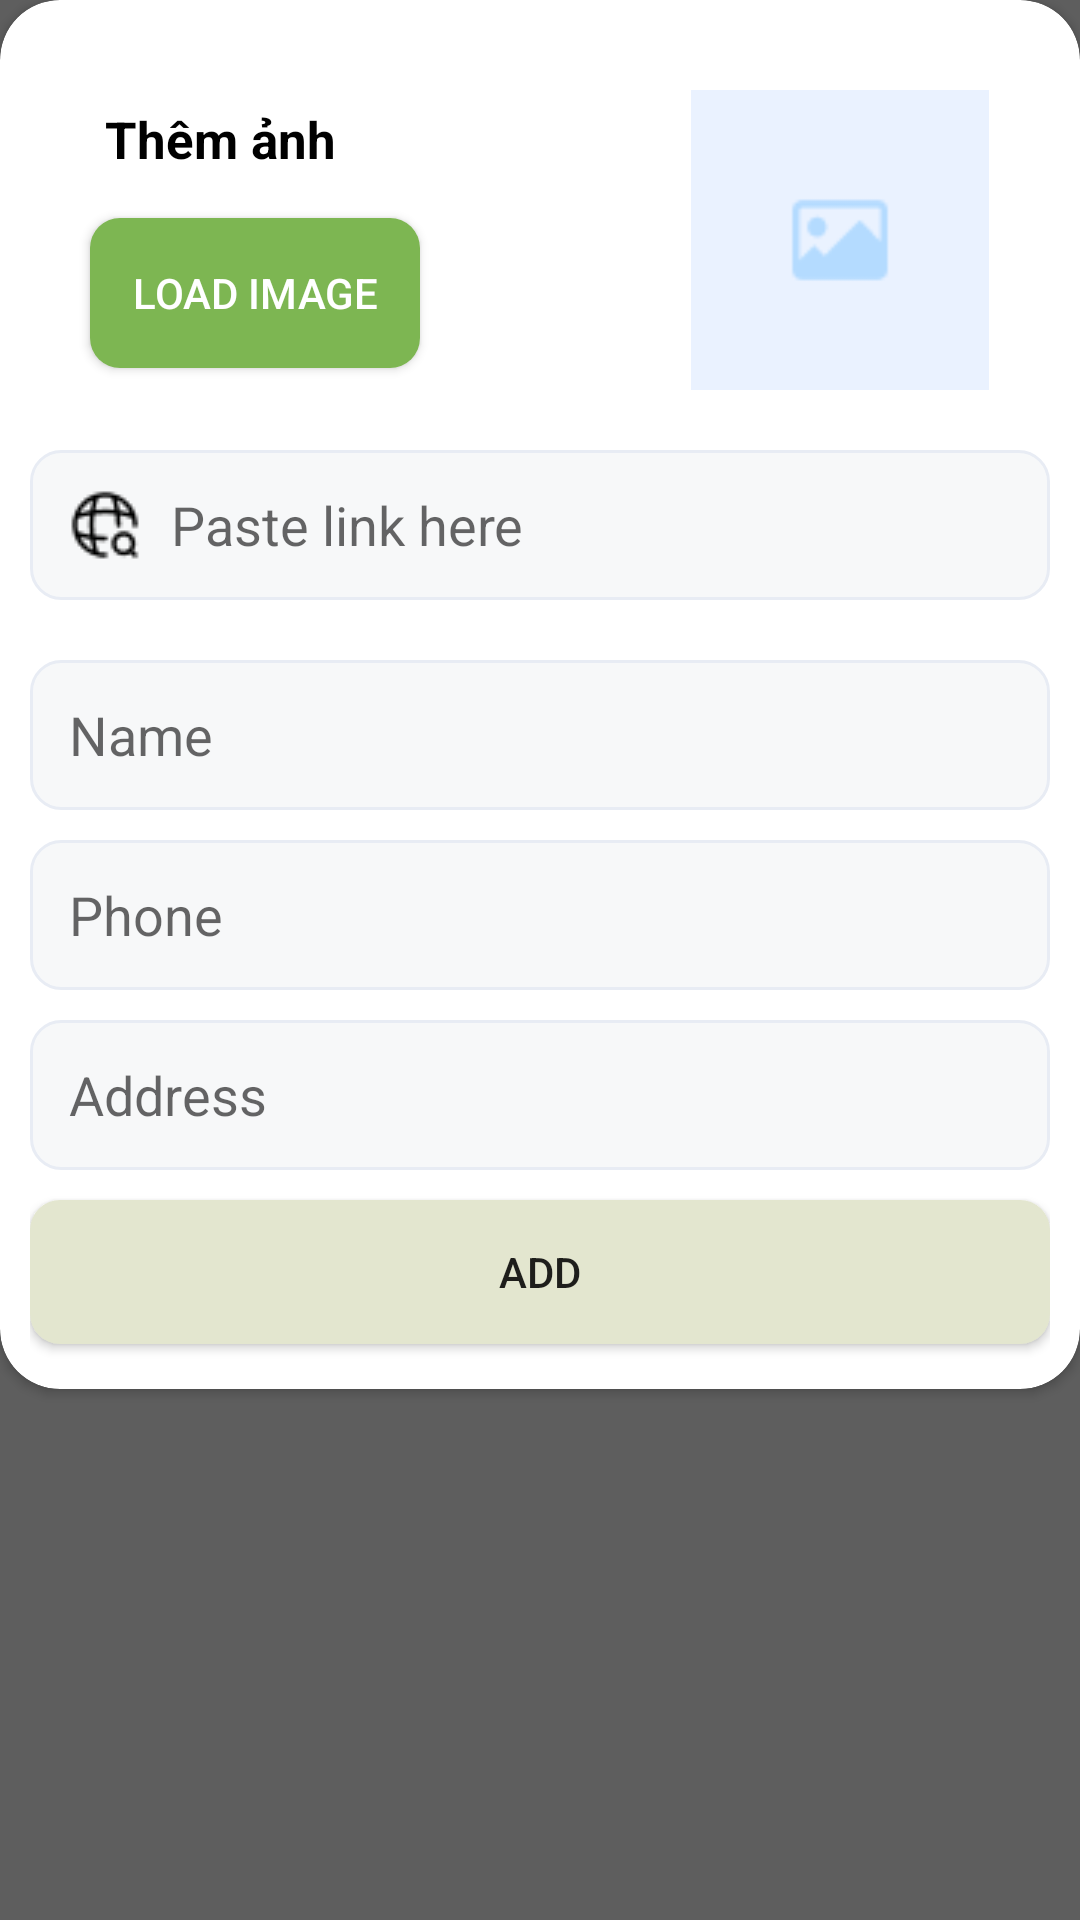

Icon click points for this 1080 x 1920 phone screenshot, format point (x, y):
lazyimage: point (840, 240)
